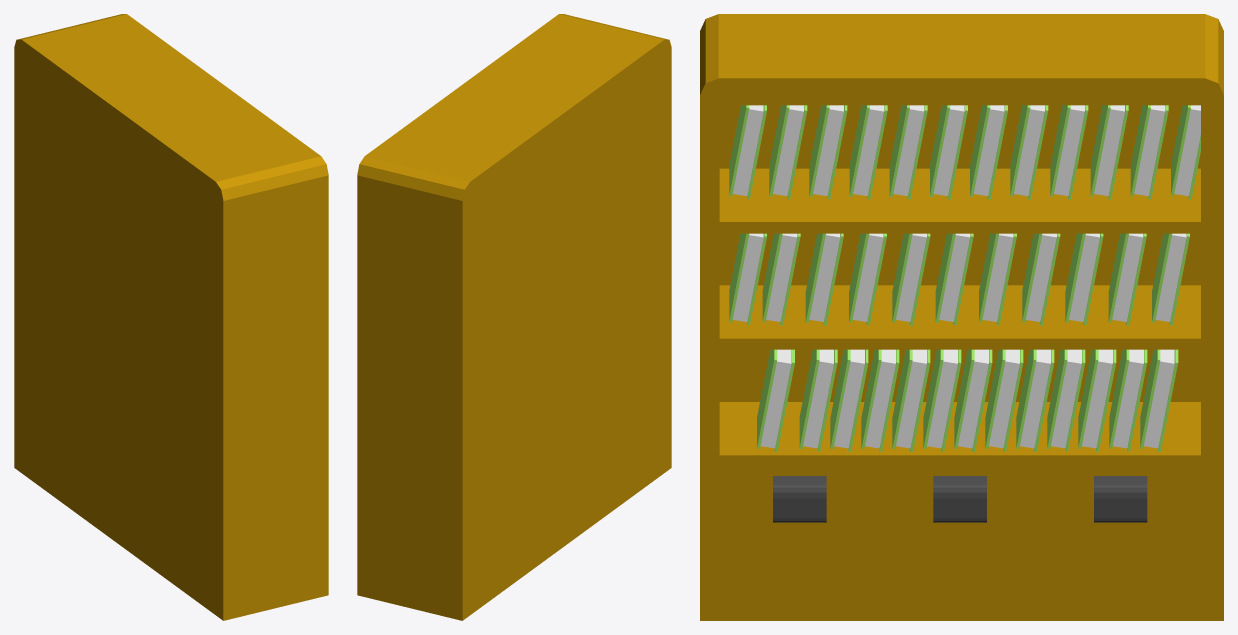
The model's file is bookcase3.fbx.
3 views of the same model, side by side, from view 1: azimuth 30°, elevation 25°; view 2: azimuth 150°, elevation 25°; view 3: azimuth 270°, elevation 25° (orthographic). The views are drawn at different scales.
Parts seen in each view (by area): view 1: bookcase; view 2: bookcase; view 3: bookcase, Cube.047.
Boxes of the visible parts, <box> form: bookcase: <box>14,14,328,620</box>; bookcase: <box>357,14,671,620</box>; bookcase: <box>700,14,1223,620</box>; Cube.047: <box>729,105,1200,451</box>.
Size of the model in its own units: 120 by 400 by 350.
3 materials, 1 textured.
